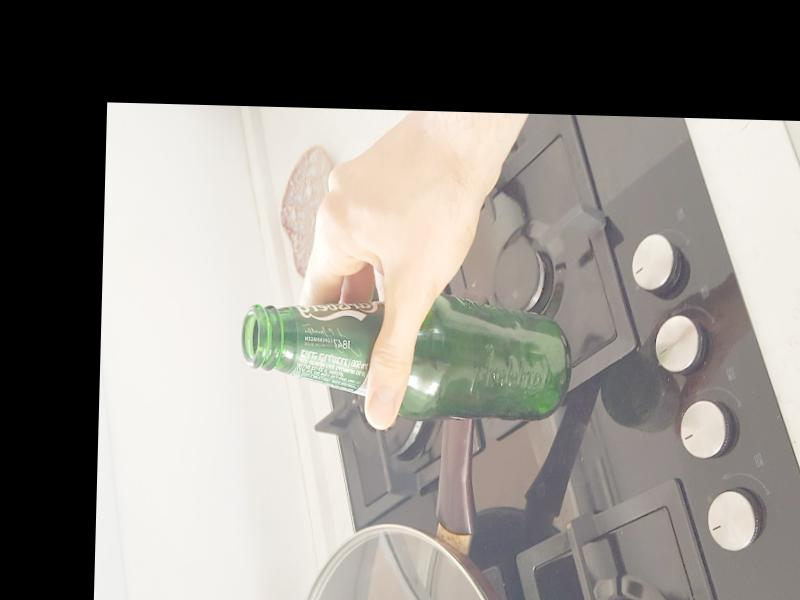Beer: (243, 302, 571, 421)
